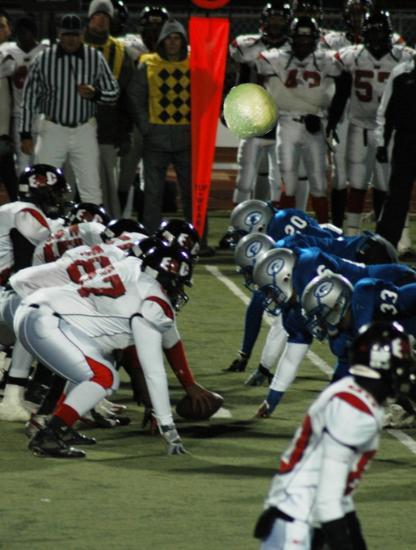Limes: (221, 82, 279, 140)
